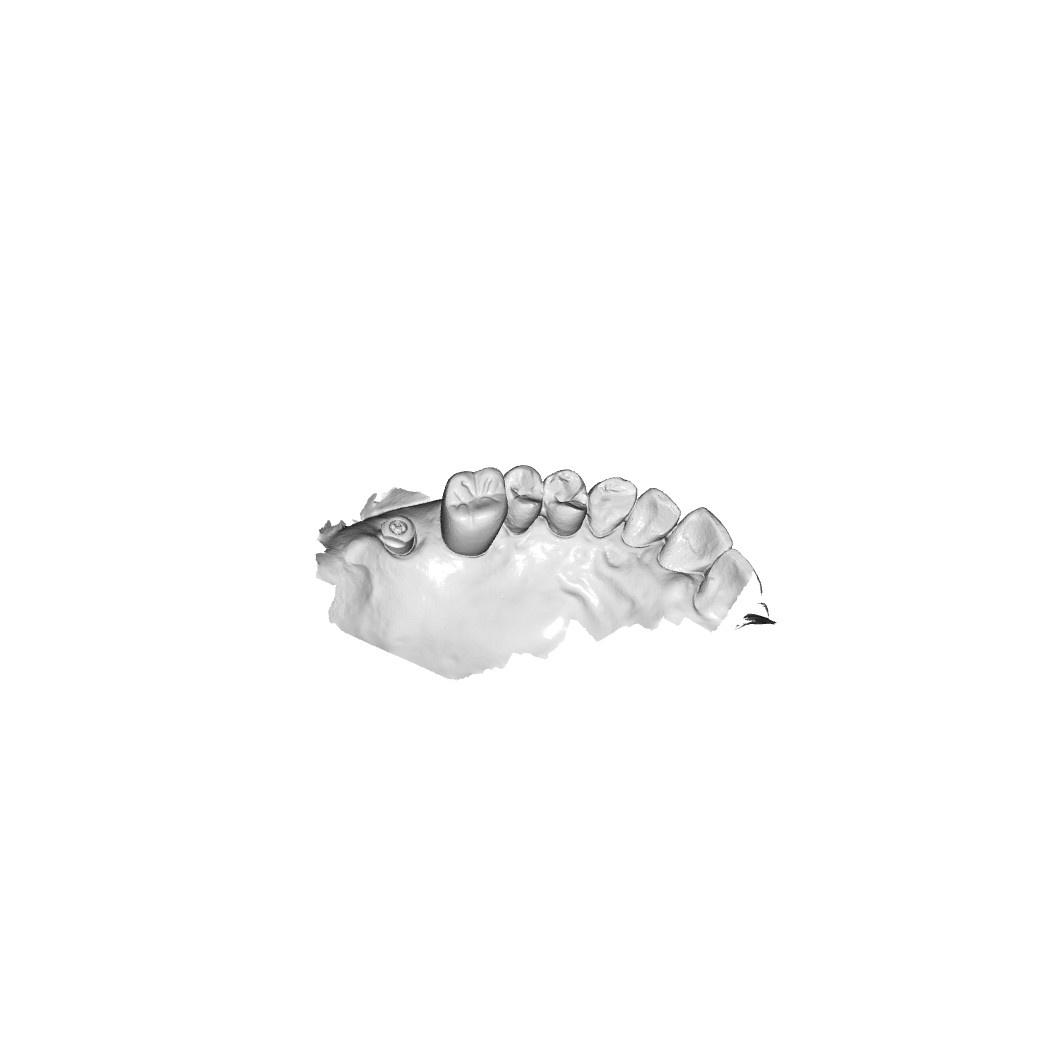canine: (589, 476, 633, 540)
implant: (380, 515, 418, 559)
incisor: (664, 504, 733, 577), (700, 548, 764, 612), (624, 488, 682, 543)
molar: (437, 465, 507, 553)
premolar: (543, 469, 589, 538), (507, 460, 541, 529)
